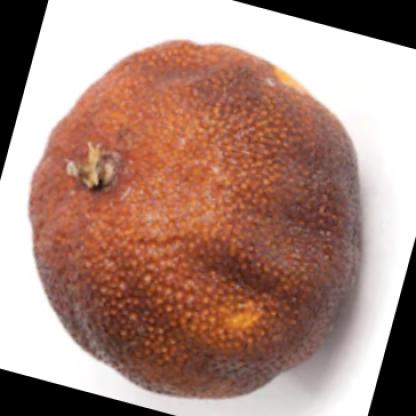rotten: (28, 41, 360, 400)
